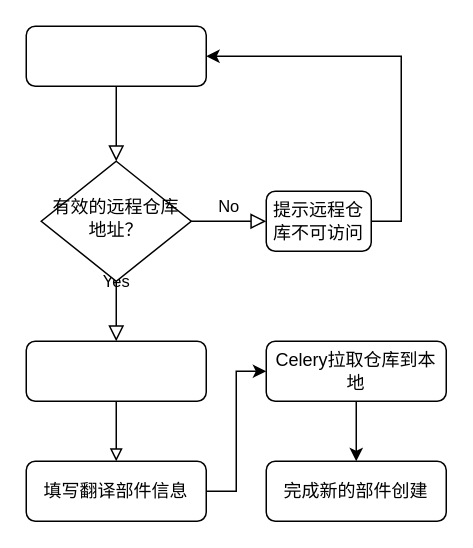
This 473x548 diagram has some shape labels left out. The shapes that lost their labels are listed below. From the top down, each one's centre as x and y in pixels, then its label:
At [115,55]: "提交部件信息".
At [115,370]: "选择翻译源文件".
